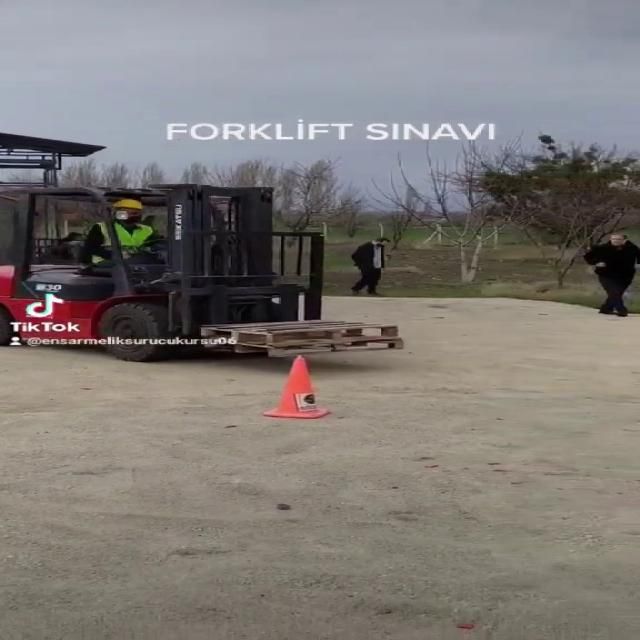ForkLift: (2, 188, 326, 355)
Human: (65, 192, 188, 268), (567, 231, 640, 309), (345, 232, 413, 306)
Pallet: (182, 317, 422, 354)
